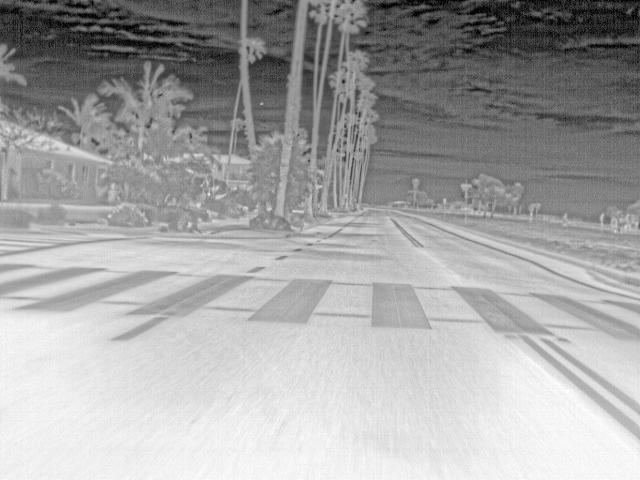person: (622, 212, 634, 232), (596, 211, 608, 230), (560, 211, 572, 228)
